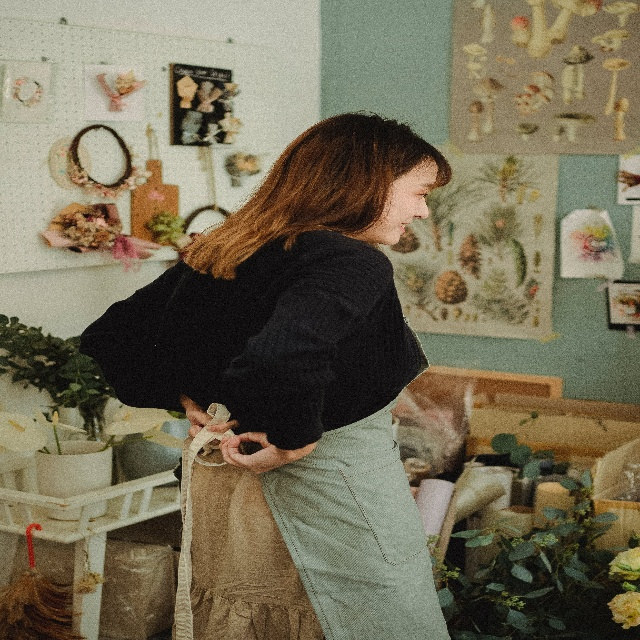Sin_guantes: (216, 427, 318, 483)
